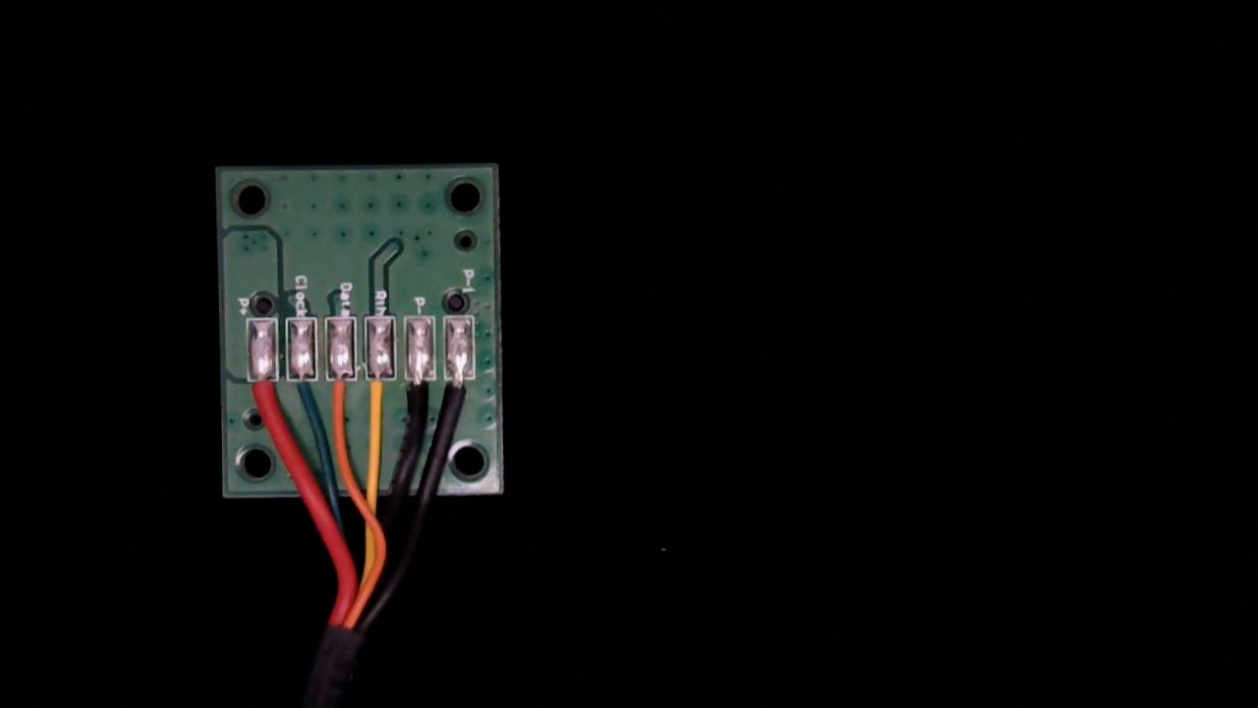Black: (405, 361, 435, 426)
Black1: (446, 362, 480, 428)
Green: (286, 357, 318, 420)
Orange: (326, 359, 356, 421)
Red: (246, 358, 281, 428)
Yellow: (367, 360, 395, 429)
